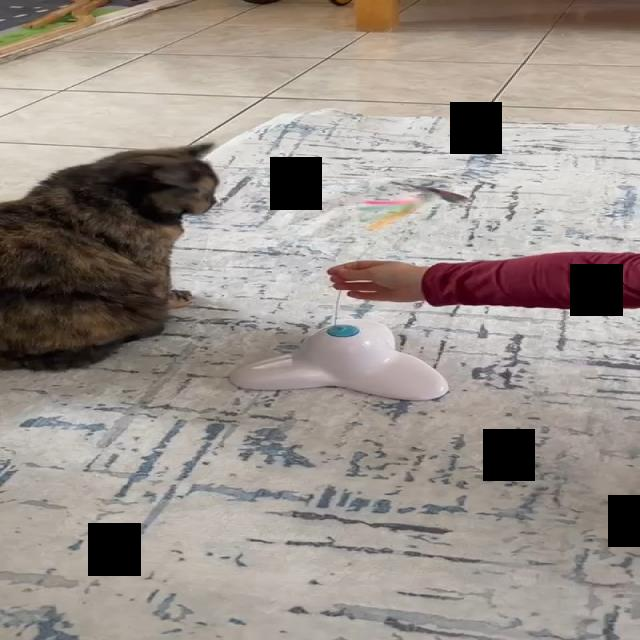authorized: (0, 141, 219, 371)
